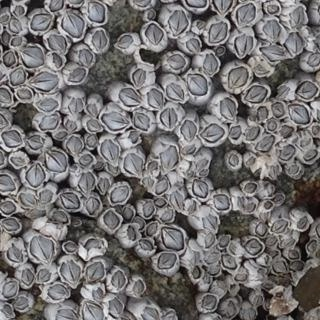Barnacle: (29, 236, 55, 263), (101, 111, 131, 131), (62, 12, 86, 37), (28, 71, 59, 90), (59, 259, 82, 284), (185, 72, 209, 95), (162, 225, 184, 250), (227, 65, 249, 90), (123, 153, 145, 177), (100, 139, 120, 165), (168, 9, 188, 35), (46, 149, 68, 172), (22, 46, 46, 67), (143, 22, 165, 44), (27, 162, 46, 187), (160, 145, 179, 170), (200, 123, 225, 142), (237, 2, 256, 27), (290, 102, 312, 123), (119, 87, 142, 107), (81, 301, 105, 319), (78, 172, 96, 196), (236, 33, 254, 57), (296, 81, 317, 101), (260, 19, 280, 40), (160, 107, 179, 129), (285, 33, 304, 55), (247, 84, 270, 102), (220, 97, 237, 121), (85, 262, 105, 282), (61, 190, 81, 210), (209, 21, 227, 43), (290, 6, 305, 31), (88, 1, 105, 23), (182, 119, 198, 142), (32, 13, 52, 31), (262, 46, 285, 61), (202, 212, 220, 231), (3, 130, 22, 148), (112, 184, 129, 204), (166, 52, 186, 69), (148, 88, 164, 109), (212, 193, 230, 211), (0, 174, 18, 192), (48, 33, 66, 51), (192, 178, 209, 197), (170, 190, 185, 211), (204, 53, 218, 75), (279, 144, 297, 161), (257, 135, 275, 152), (168, 82, 185, 100), (39, 114, 58, 130), (214, 0, 233, 16), (108, 297, 123, 317), (112, 270, 127, 290), (158, 253, 178, 268), (10, 66, 25, 86), (79, 49, 94, 69), (56, 306, 79, 319), (2, 280, 18, 298), (20, 192, 38, 208), (67, 135, 83, 153), (48, 285, 70, 298), (93, 30, 108, 49), (270, 218, 290, 232), (221, 253, 237, 270), (245, 239, 262, 255), (104, 211, 120, 228), (118, 33, 135, 49), (28, 135, 46, 150), (135, 111, 150, 129), (85, 238, 105, 251), (38, 98, 58, 111), (8, 244, 23, 261), (70, 67, 87, 82), (133, 68, 147, 86), (14, 295, 30, 310), (202, 294, 218, 309), (278, 123, 294, 138), (87, 197, 101, 214), (21, 267, 34, 285), (40, 188, 55, 203), (0, 200, 16, 214), (9, 17, 23, 33), (256, 104, 269, 121), (38, 267, 52, 282), (205, 251, 220, 265), (246, 126, 260, 141), (51, 51, 64, 67), (272, 261, 289, 273), (3, 218, 20, 230), (156, 177, 168, 194), (278, 83, 290, 100), (188, 37, 200, 54), (99, 176, 110, 194), (272, 102, 285, 117), (70, 98, 83, 113), (0, 88, 13, 103), (17, 86, 32, 99), (3, 51, 16, 66), (147, 221, 159, 237), (86, 119, 102, 131), (143, 198, 154, 215), (280, 236, 295, 248), (123, 206, 135, 221), (49, 0, 64, 12), (205, 232, 216, 248), (161, 209, 174, 222), (79, 153, 93, 165), (307, 53, 319, 67), (134, 279, 144, 295), (52, 211, 68, 221), (270, 163, 280, 179), (287, 164, 300, 176), (230, 126, 242, 139), (87, 102, 98, 116), (254, 63, 268, 74), (139, 239, 154, 249), (243, 307, 255, 319), (2, 304, 14, 316), (245, 181, 257, 193), (143, 176, 155, 188), (14, 4, 26, 16), (267, 3, 280, 14), (257, 221, 267, 235), (305, 150, 319, 160), (302, 137, 312, 151), (11, 156, 26, 165), (296, 217, 308, 228), (148, 160, 159, 172), (87, 135, 98, 147), (66, 119, 77, 131), (64, 242, 77, 252), (245, 202, 258, 212), (196, 158, 209, 168), (247, 154, 257, 167), (184, 145, 197, 155), (291, 262, 305, 271), (273, 194, 284, 205), (128, 131, 139, 142), (220, 235, 230, 247), (128, 226, 136, 241), (229, 153, 239, 165), (135, 216, 144, 229), (227, 302, 235, 316), (265, 236, 279, 244), (3, 30, 11, 44), (93, 288, 103, 299), (107, 164, 118, 174), (155, 198, 167, 207), (237, 195, 245, 208), (210, 265, 221, 274), (289, 249, 300, 258), (308, 240, 317, 251), (235, 273, 247, 281), (193, 266, 201, 278), (265, 183, 273, 195), (173, 179, 185, 187), (185, 160, 193, 172), (95, 160, 105, 169), (56, 131, 67, 139), (311, 124, 319, 135), (254, 295, 263, 304), (261, 211, 270, 220), (0, 14, 9, 23), (268, 120, 276, 130), (196, 20, 204, 30), (203, 274, 211, 283)
